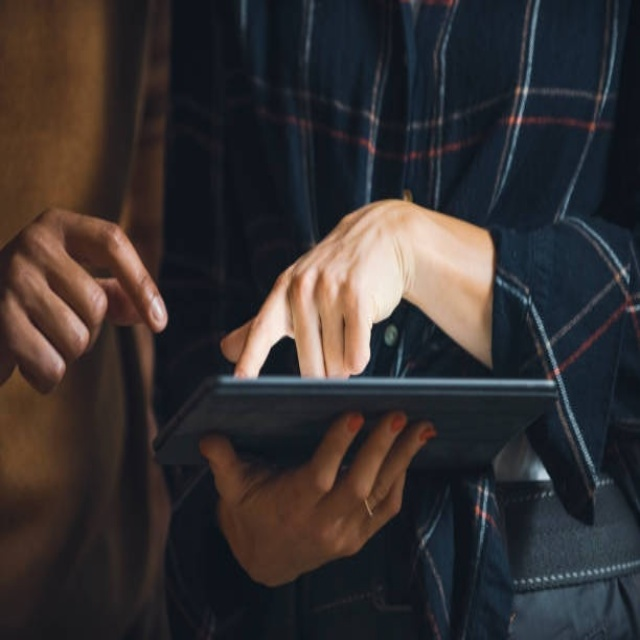Sin_guantes: (220, 197, 465, 381), (200, 404, 435, 589), (0, 204, 167, 400)
